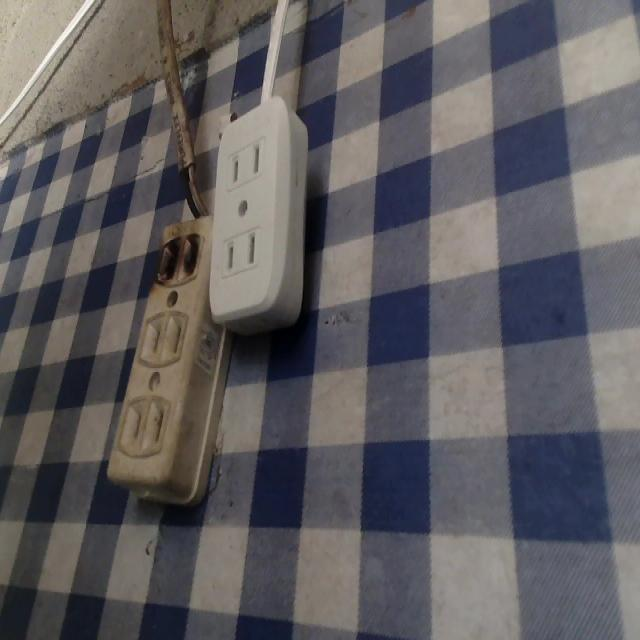-: (145, 225, 208, 288)
